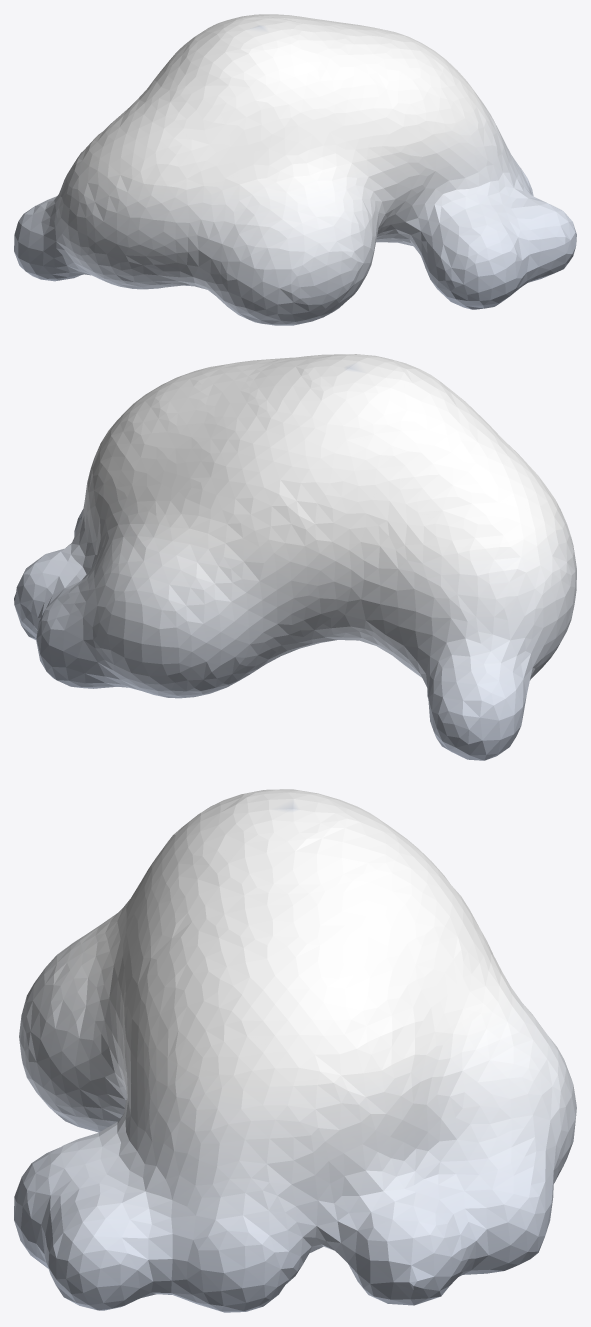
File: Cloud_4.obj
3 views of the same model, one above another, from view 1: azimuth 30°, elevation 25°; view 2: azimuth 150°, elevation 25°; view 3: azimuth 270°, elevation 25° (orthographic). The views are drawn at different scales.
Parts seen in each view (by area): view 1: Cloud; view 2: Cloud; view 3: Cloud.
Boxes of the visible parts, x1=… form: Cloud: x1=14, y1=14, x2=576, y2=325; Cloud: x1=14, y1=354, x2=576, y2=760; Cloud: x1=14, y1=789, x2=576, y2=1312.
Bounding box in the file's own units: 26.54 × 14.96 × 21.02.
Materials: 1 (1 with a texture image).
